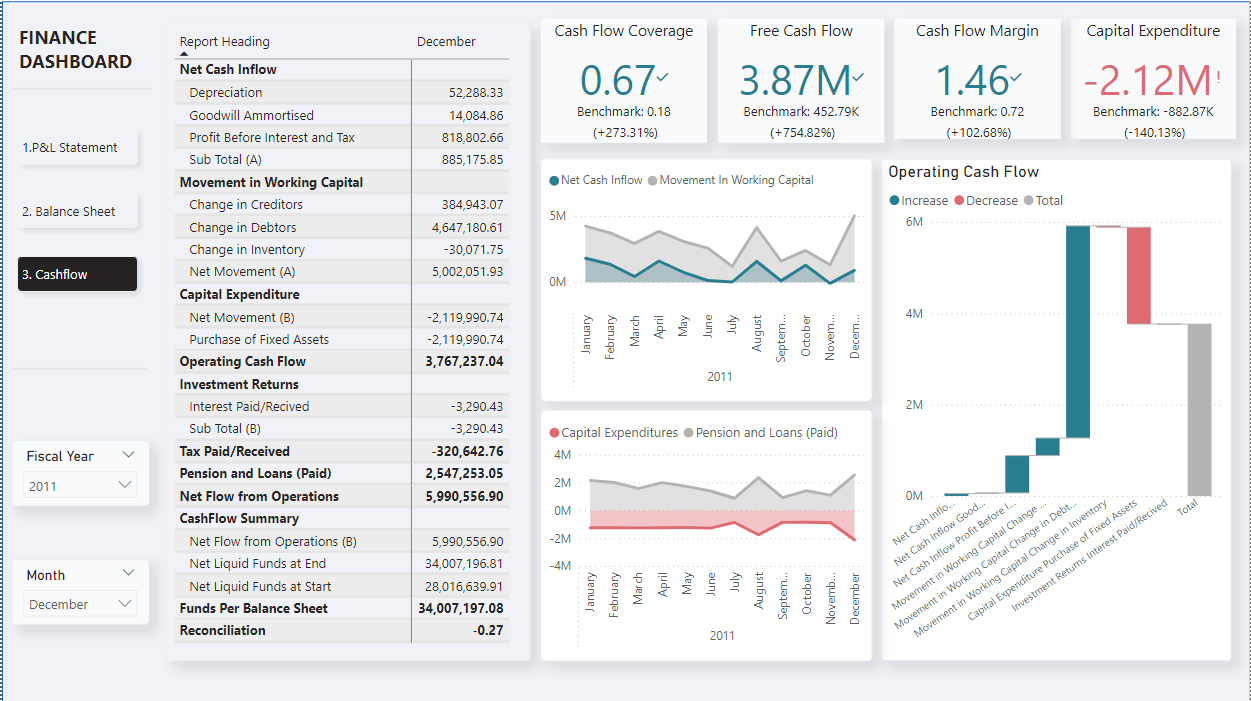

This screenshot's page, from the dashboard's own definition file:
{"tool":"powerbi","page":{"name":"3. Cashflow","canvas":[1280,720],"ordinal":2},"visuals":[{"type":"shape","box":[0,1.3,1280.8,719.2],"z":0},{"type":"pivotTable","fields":{"Rows":["Finanical Report.ReportHeading","Finanical Report.ReportSection","Account.Account"],"Values":["General Ledger.CashFlow Amount"],"Columns":["Date.Month","Date.Fiscal Year"]},"box":[169.2,24.4,373.1,653.8],"z":1000},{"type":"slicer","fields":{"Values":["Date.Fiscal Year"]},"box":[9.2,451.8,142.3,67.9],"z":2000},{"type":"slicer","fields":{"Values":["Date.Month"]},"box":[9.2,573.6,142.3,67.9],"z":3000},{"type":"waterfallChart","title":"Operating Cash Flow","fields":{"Category":["Finanical Report.Report Heading","Finanical Report.Report Section"],"Y":["General Ledger.CashFlow Amount"]},"box":[901.3,162.8,360.3,515.4],"z":4000},{"type":"kpi","title":"Cash Flow Coverage","fields":{"Indicator":["General Ledger.Cash Flow Coverage"],"Goal":["General Ledger.Cash Flow Coverage PM"],"TrendLine":["Date.Month"]},"box":[552.6,19.2,170.5,126.9],"z":5000},{"type":"kpi","title":"Capital Expenditure","fields":{"TrendLine":["Date.Month"],"Indicator":["General Ledger.Net Movement"],"Goal":["General Ledger.Net Movement PM"]},"box":[1096.2,19.2,169.2,123.1],"z":6000},{"type":"kpi","title":"Free Cash Flow ","fields":{"TrendLine":["Date.Month"],"Indicator":["General Ledger.Free Cash Flow"],"Goal":["General Ledger.Free Cash Flow PM"]},"box":[734.1,19.2,170,126.9],"z":7000},{"type":"kpi","title":"Cash Flow Margin","fields":{"TrendLine":["Date.Month"],"Indicator":["General Ledger.Cash Flow Margin"],"Goal":["General Ledger.Cash Flow Margin PM"]},"box":[915.1,19.2,170,123.1],"z":8000},{"type":"lineChart","fields":{"Y":["General Ledger.Net Cash Inflow","General Ledger.Movement In Working Capital"],"Category":["Date.Fiscal Year Hierarchy.Fiscal Year","Date.Fiscal Year Hierarchy.Month"]},"box":[552.6,162.8,339.7,248.7],"z":9000},{"type":"lineChart","fields":{"Category":["Date.Fiscal Year Hierarchy.Fiscal Year","Date.Fiscal Year Hierarchy.Month"],"Y":["General Ledger.Capital Expenditures","General Ledger.Pension and Loans (Paid)"]},"box":[552.6,420.5,339.7,257.7],"z":10000},{"type":"textbox","box":[11.5,19.2,137.2,82.1],"z":11000},{"type":"shape","box":[11.5,74.4,142.3,33.3],"z":12000},{"type":"pageNavigator","box":[6.4,123.1,142.3,187.2],"z":13000},{"type":"shape","box":[11.5,361.5,137.2,33.3],"z":13001}]}

Visuals, with their boxes in screenshot pixels (x1, y1, x2, y2), scaled from the page's 1280x720 canvas onto the 1251x701 screenshot:
shape: {"x1": 0, "y1": 1, "x2": 1250, "y2": 700}
pivotTable - Finanical Report.ReportHeading x Finanical Report.ReportSection: {"x1": 165, "y1": 24, "x2": 530, "y2": 660}
slicer - Date.Fiscal Year: {"x1": 9, "y1": 440, "x2": 148, "y2": 506}
slicer - Date.Month: {"x1": 9, "y1": 558, "x2": 148, "y2": 625}
"Operating Cash Flow" waterfallChart: {"x1": 881, "y1": 159, "x2": 1233, "y2": 660}
"Cash Flow Coverage" kpi: {"x1": 540, "y1": 19, "x2": 707, "y2": 142}
"Capital Expenditure" kpi: {"x1": 1071, "y1": 19, "x2": 1237, "y2": 139}
"Free Cash Flow " kpi: {"x1": 717, "y1": 19, "x2": 884, "y2": 142}
"Cash Flow Margin" kpi: {"x1": 894, "y1": 19, "x2": 1061, "y2": 139}
lineChart - General Ledger.Net Cash Inflow x General Ledger.Movement In Working Capital: {"x1": 540, "y1": 159, "x2": 872, "y2": 401}
lineChart - Date.Fiscal Year Hierarchy.Fiscal Year x Date.Fiscal Year Hierarchy.Month: {"x1": 540, "y1": 409, "x2": 872, "y2": 660}
textbox: {"x1": 11, "y1": 19, "x2": 145, "y2": 99}
shape: {"x1": 11, "y1": 72, "x2": 150, "y2": 105}
pageNavigator: {"x1": 6, "y1": 120, "x2": 145, "y2": 302}
shape: {"x1": 11, "y1": 352, "x2": 145, "y2": 384}
